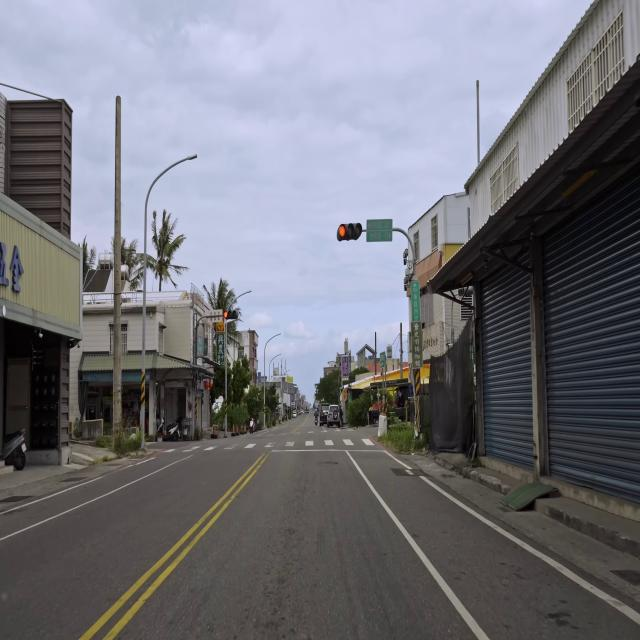red light: (336, 223, 362, 241), (223, 310, 238, 320)
